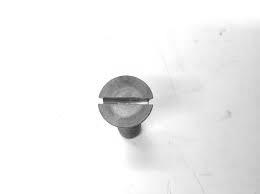slotted: (98, 74, 152, 130)
